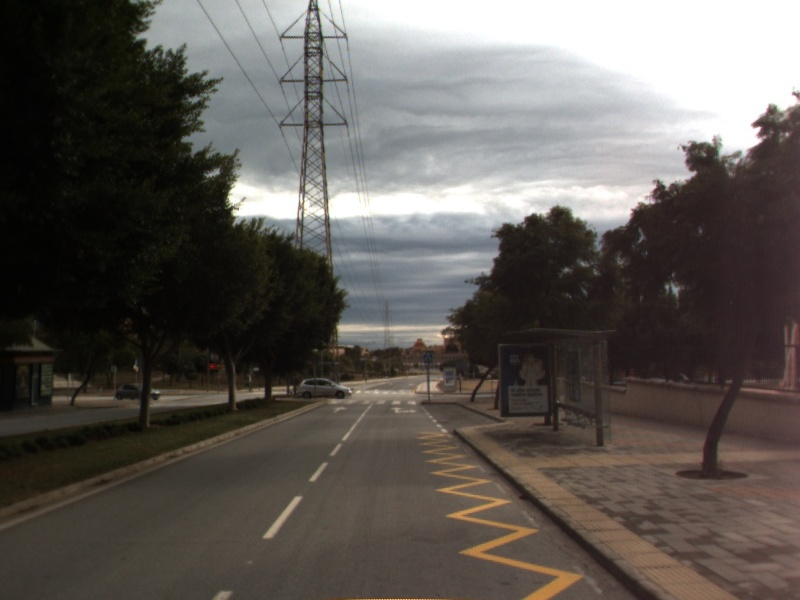STRAIGHT: (330, 404, 349, 415)
STRAIGHT_RIGHT: (389, 405, 419, 416)
